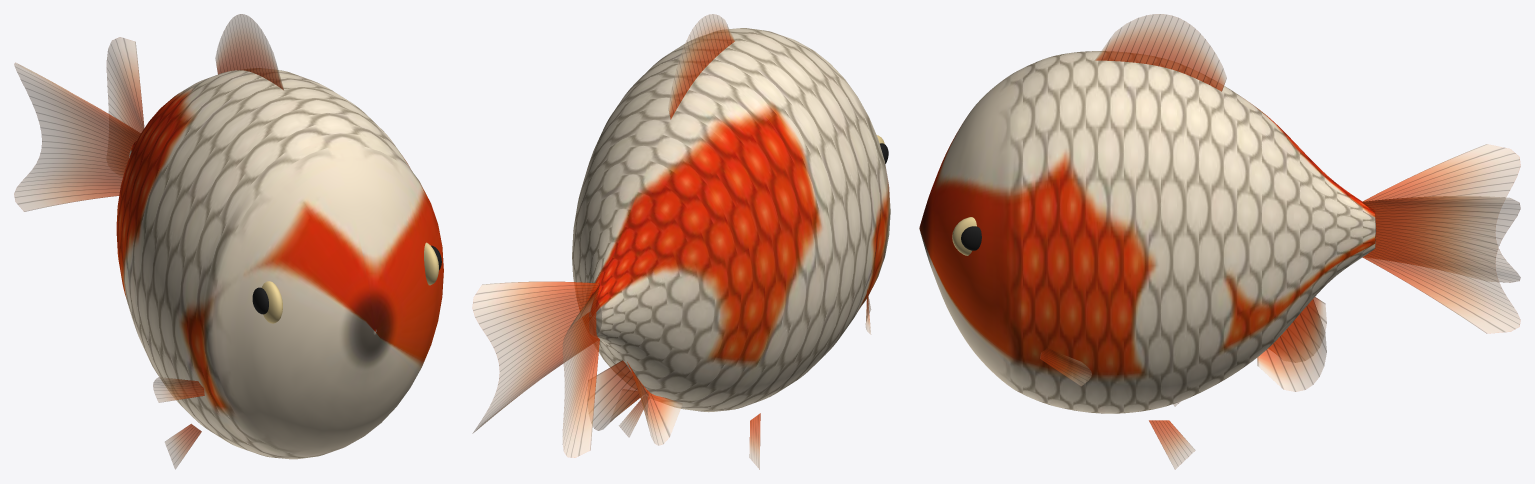
The model's file is pinpon_1.glb.
3 views of the same model, side by side, from view 1: azimuth 30°, elevation 25°; view 2: azimuth 150°, elevation 25°; view 3: azimuth 270°, elevation 25° (orthographic). The views are drawn at different scales.
Visible parts, largest first — view 1: body, fins, iris, pupil; view 2: body, fins; view 3: body, fins.
Boxes of the visible parts, x1,y1,x2,y2 form: body: [116, 68, 443, 459]; fins: [14, 14, 283, 469]; iris: [261, 242, 438, 323]; pupil: [252, 245, 441, 314]; body: [572, 28, 890, 412]; fins: [472, 14, 870, 469]; body: [919, 51, 1376, 413]; fins: [1040, 14, 1520, 469].
Bounding box in the file's own units: 0.4282 × 0.6821 × 0.8758.
4 materials, 2 textured.
